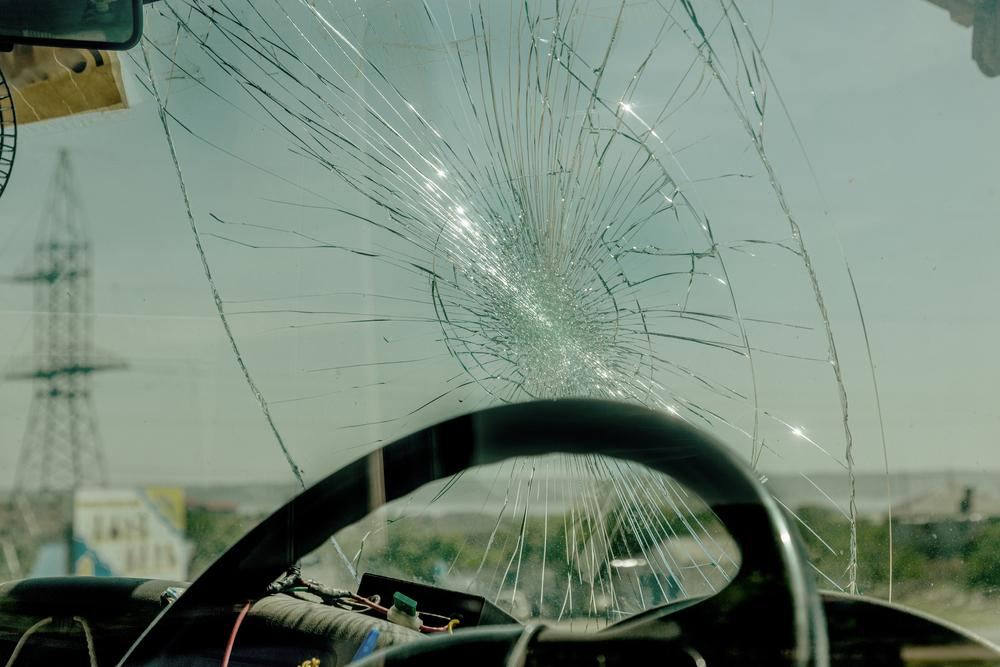glass shatter: (0, 0, 1000, 648)
